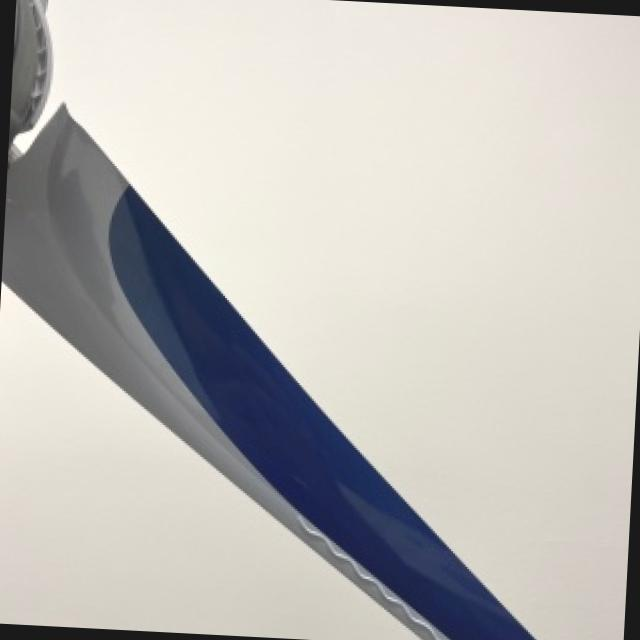healthy: (0, 288, 417, 640)
